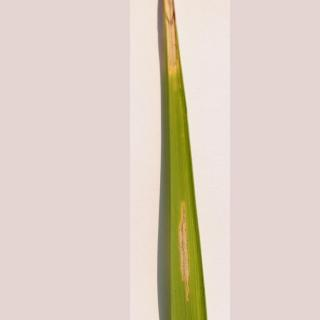Hawar-Daun: (166, 194, 202, 308), (152, 2, 192, 94)
